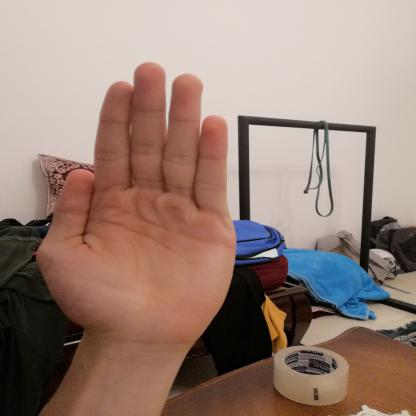SEEN: (24, 55, 246, 354)
